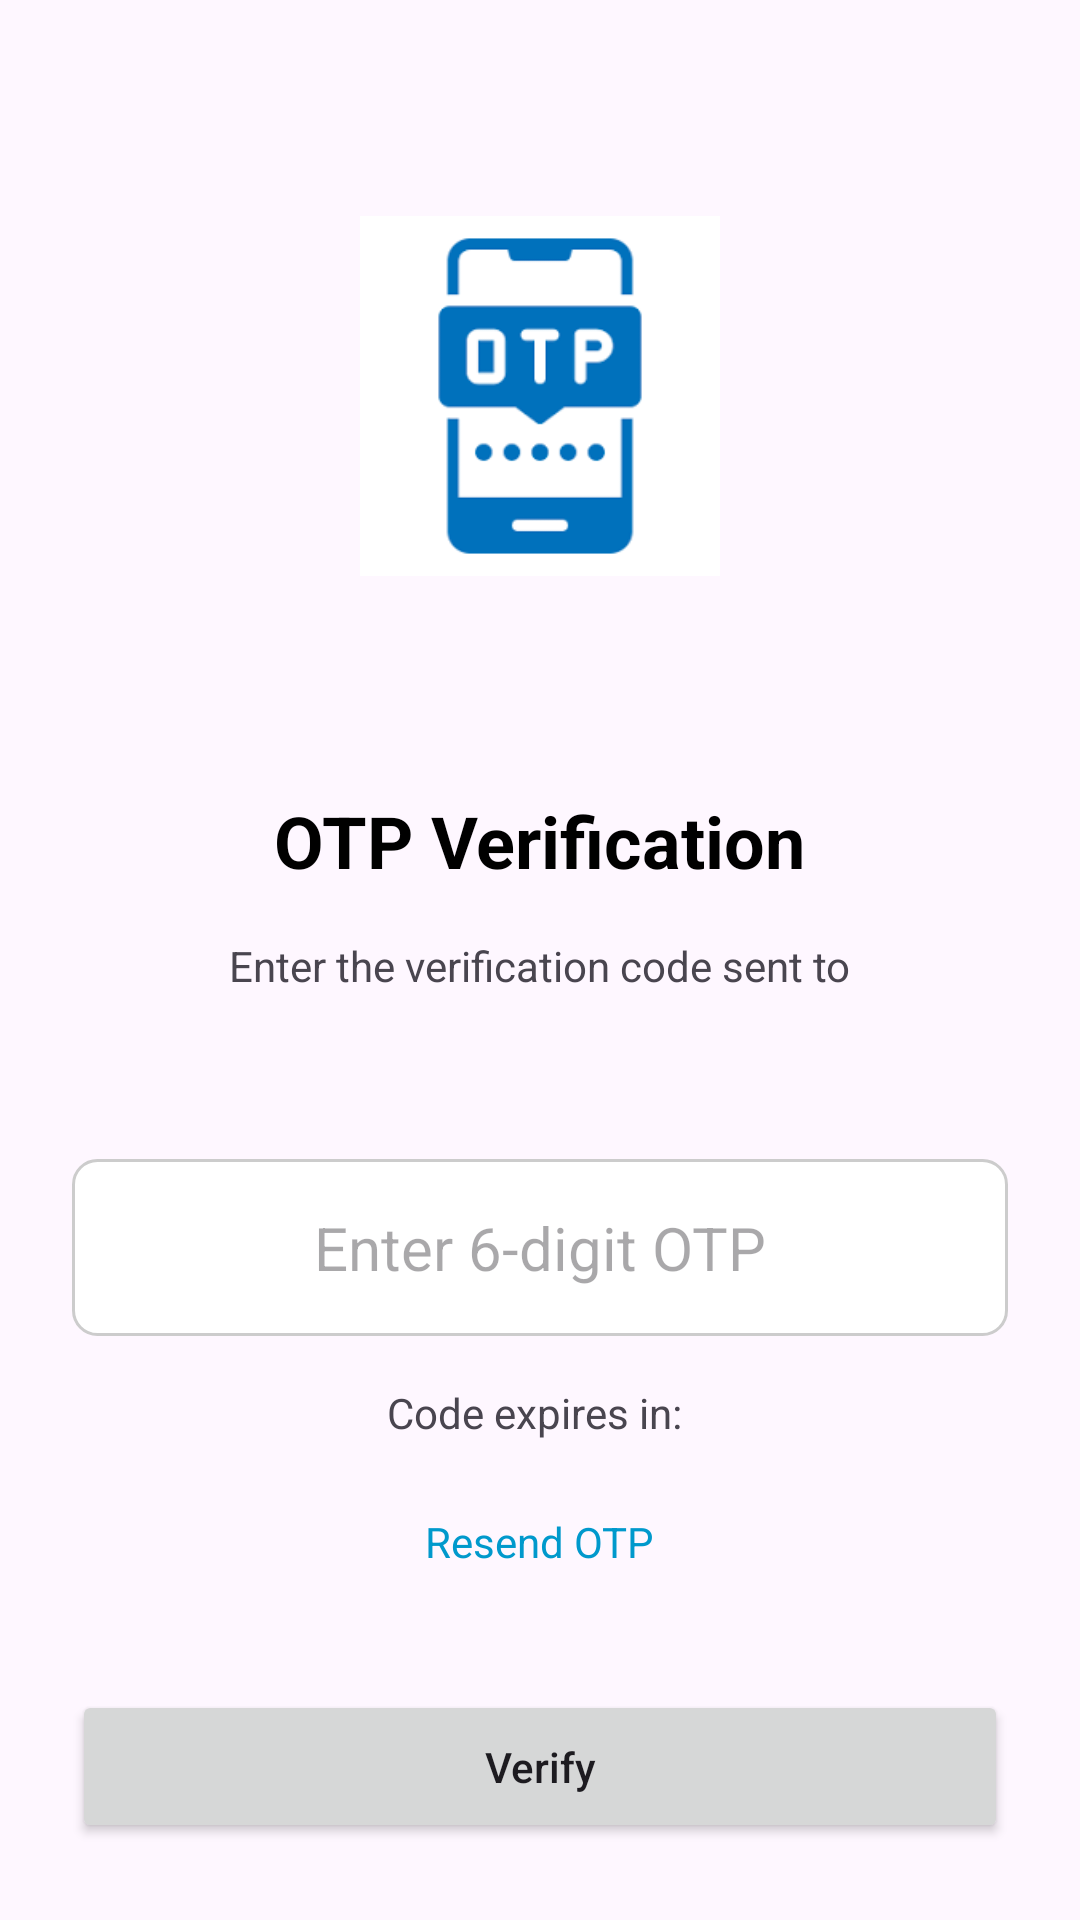

Where icons sit on this 1080 x 1920 app screen, as (x1, y1, x2, y2):
OTP Verification: (438, 238, 642, 554)
